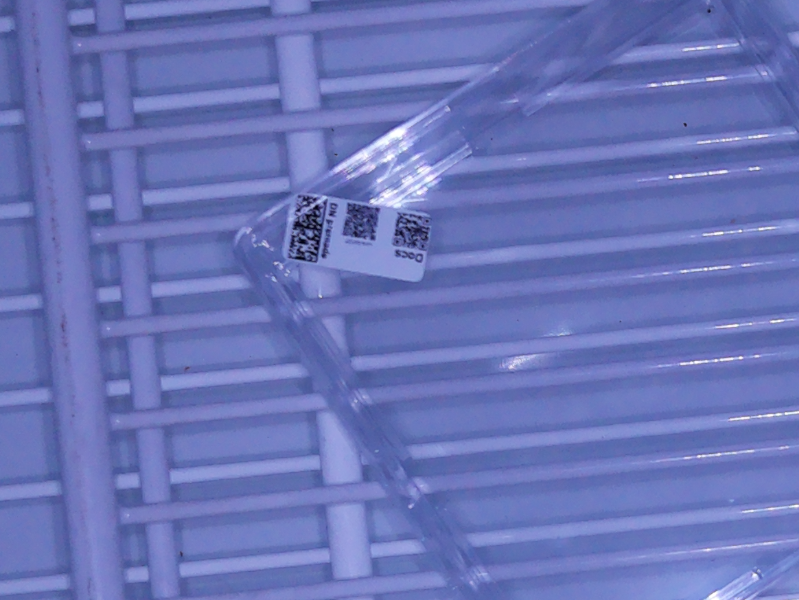plate: (232, 1, 799, 600)
